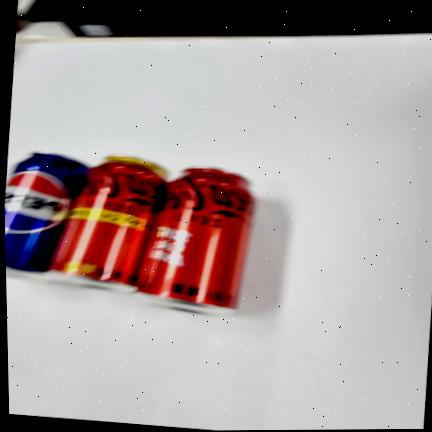can_coke_decaf: (49, 155, 170, 294)
can_coke_zero: (135, 165, 258, 316)
can_pepsi: (5, 150, 93, 282)
